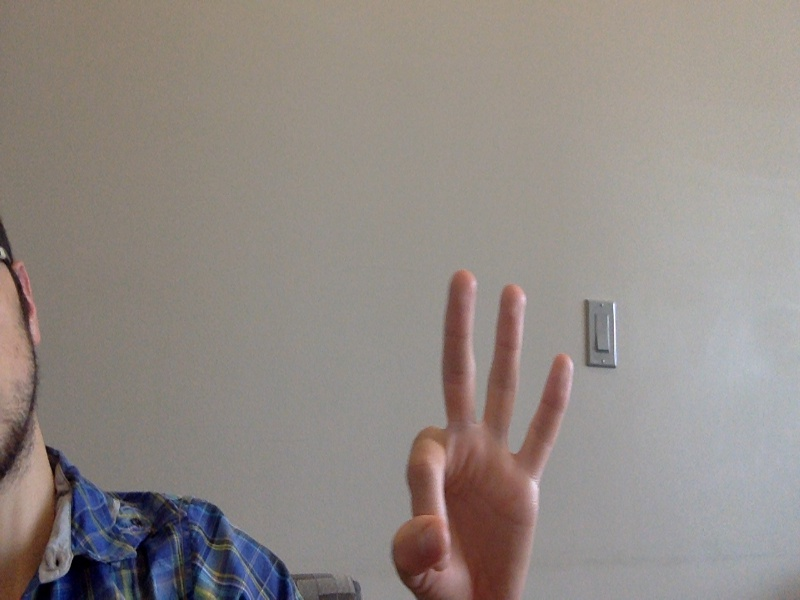3-hand: (395, 267, 574, 600)
